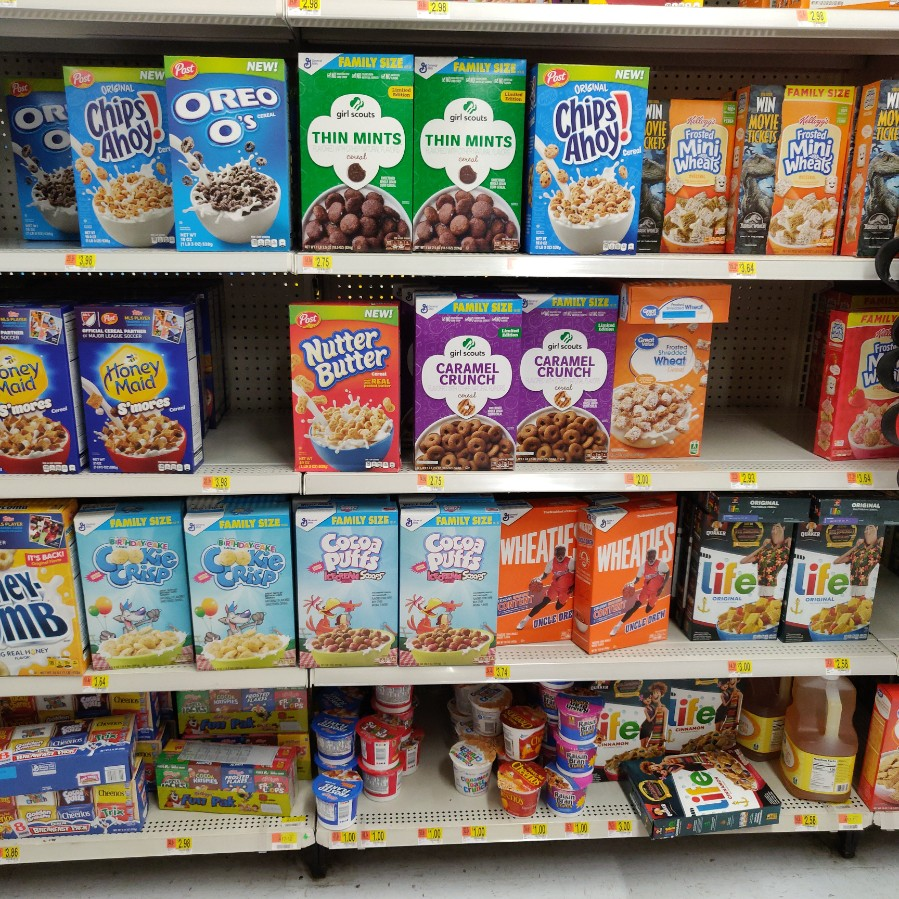Chips Ahoys-565717529: (535, 53, 638, 255), (66, 65, 175, 247)
Honey Comb- 009288857: (4, 504, 89, 672)
Oreo-563424384: (167, 53, 300, 253)
